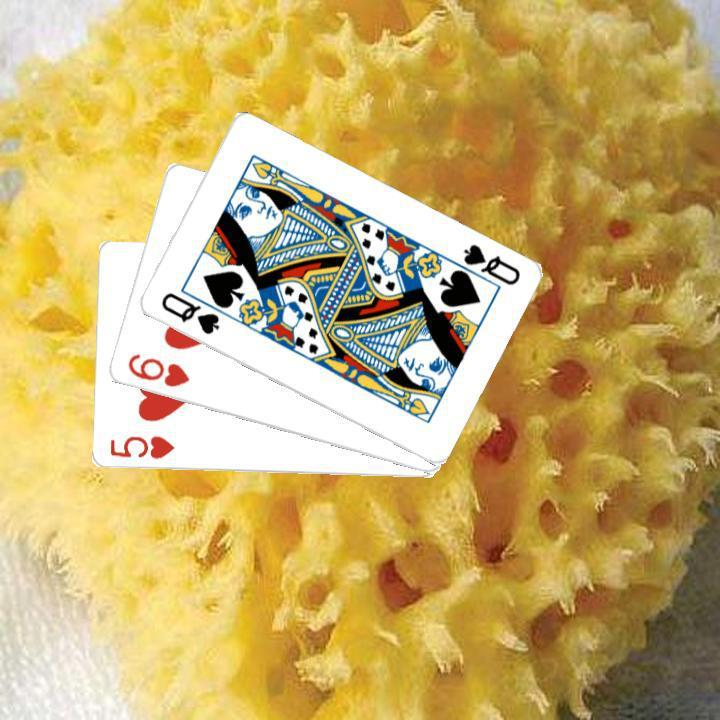5: (105, 432, 176, 461)
6: (122, 349, 191, 390)
Q: (156, 288, 221, 337), (458, 240, 522, 288)
